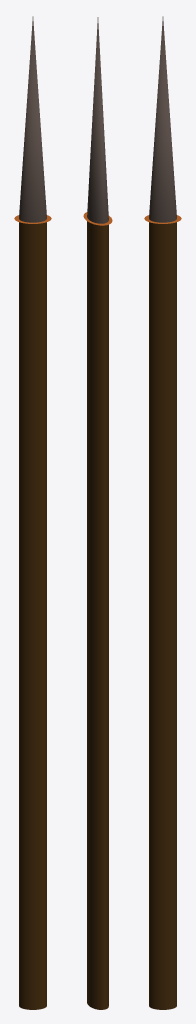
Rendered from spear.fbx.
The picture shows the model from 3 angles, left to right: view 1: azimuth 90°, elevation 25°; view 2: azimuth 210°, elevation 25°; view 3: azimuth 270°, elevation 25°; orthographic projection.
Visible parts, largest first — view 1: pasted__pasted__pasted__pCylinder1; view 2: pasted__pasted__pasted__pCylinder1; view 3: pasted__pasted__pasted__pCylinder1.
Boxes of the visible parts, bbox=[...] form: pasted__pasted__pasted__pCylinder1: bbox=[14, 16, 51, 1009]; pasted__pasted__pasted__pCylinder1: bbox=[83, 17, 112, 1009]; pasted__pasted__pasted__pCylinder1: bbox=[144, 16, 181, 1009].
Bounding box in the file's own units: 0.0659 × 2.79 × 0.0956.
1 material, 1 textured.
